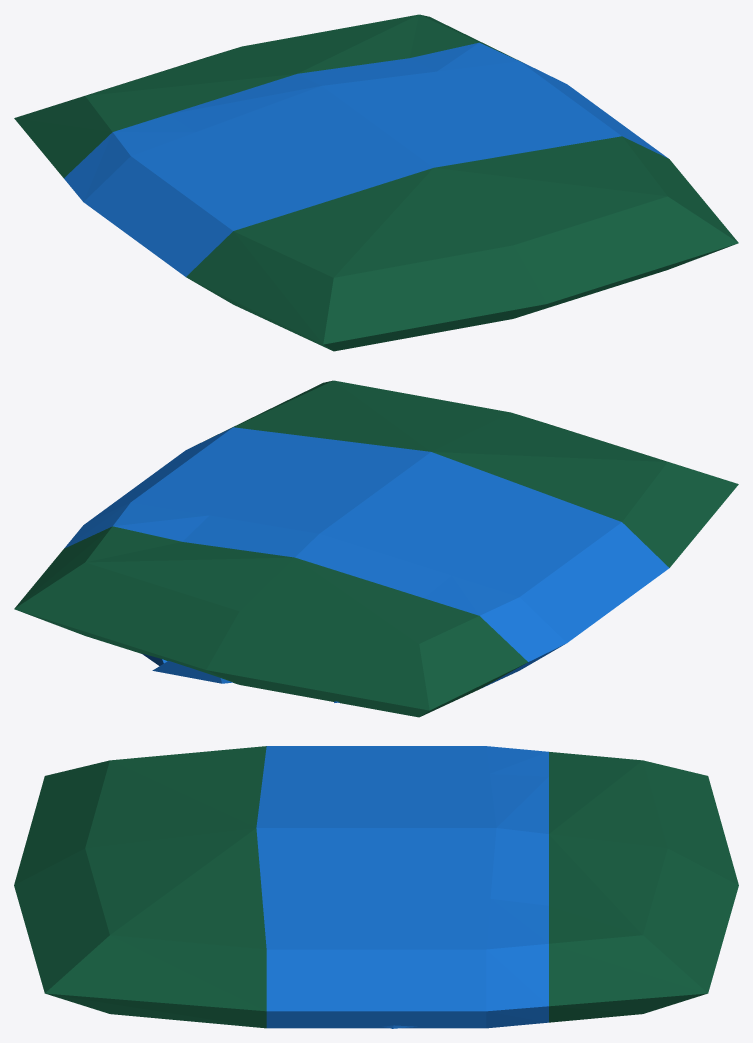
File: T_apples.fbx
3 views of the same model, one above another, from view 1: azimuth 30°, elevation 25°; view 2: azimuth 150°, elevation 25°; view 3: azimuth 270°, elevation 25° (orthographic). The views are drawn at different scales.
Parts seen in each view (by area): view 1: apples; view 2: apples; view 3: apples.
Boxes of the visible parts, x1,y1,x2,y2 form: apples: (14,14,738,351); apples: (14,380,738,717); apples: (14,746,738,1028).
Size of the model in its own units: 18.03 by 3.3 by 21.83.
